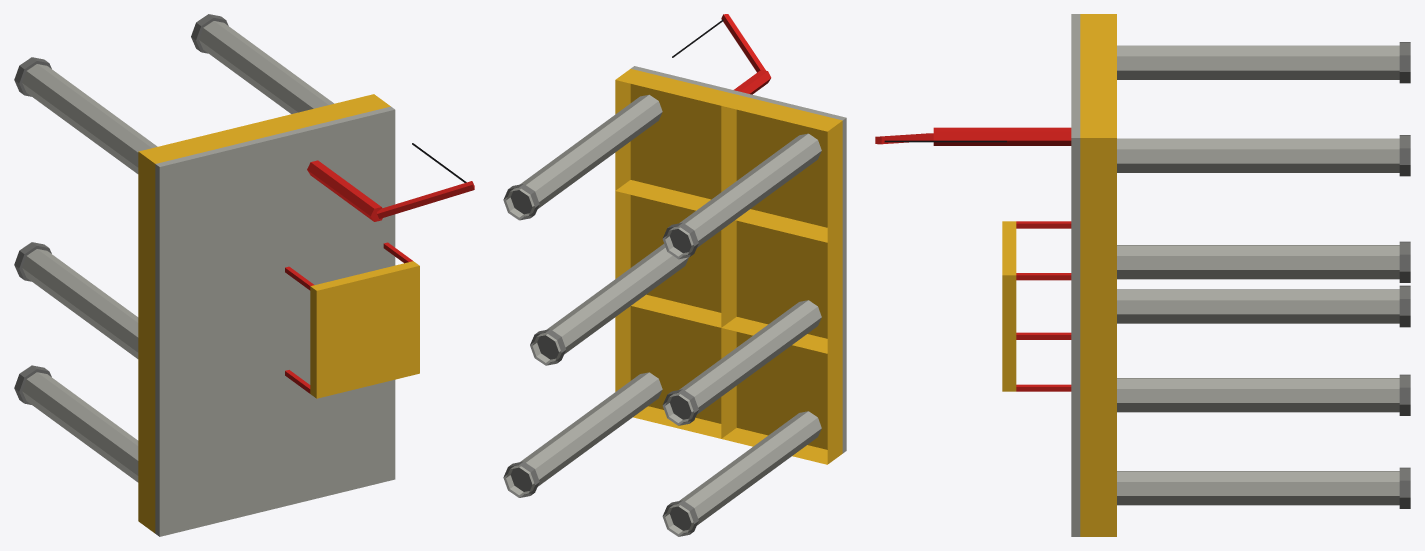
The model's file is construction_2.glb.
3 renders of one model, left to right at view 1: azimuth 30°, elevation 25°; view 2: azimuth 150°, elevation 25°; view 3: azimuth 270°, elevation 25°, orthographic. The views are drawn at different scales.
Parts seen in each view (by area): view 1: t02_g25.002, t12_g28.002, t00_g24.002, t01_g24.002, t11_g27.002, t10_g26.002; view 2: t01_g24.002, t12_g28.002, t02_g25.002, t00_g24.002, t10_g26.002, t11_g27.002; view 3: t12_g28.002, t11_g27.002, t10_g26.002, t02_g25.002, t00_g24.002, t01_g24.002.
Boxes of the visible parts, left/top/right/bottom form: t02_g25.002: left=14, top=57, right=277, bottom=290; t12_g28.002: left=191, top=14, right=474, bottom=261; t00_g24.002: left=14, top=365, right=277, bottom=536; t01_g24.002: left=14, top=242, right=277, bottom=413; t11_g27.002: left=277, top=233, right=419, bottom=398; t10_g26.002: left=277, top=377, right=395, bottom=507; t01_g24.002: left=662, top=209, right=846, bottom=425; t12_g28.002: left=503, top=14, right=771, bottom=220; t02_g25.002: left=662, top=92, right=846, bottom=259; t00_g24.002: left=662, top=317, right=846, bottom=536; t10_g26.002: left=503, top=294, right=736, bottom=497; t11_g27.002: left=530, top=180, right=736, bottom=365; t12_g28.002: left=875, top=76, right=1410, bottom=270; t11_g27.002: left=1002, top=221, right=1410, bottom=403; t10_g26.002: left=1071, top=404, right=1410, bottom=536; t02_g25.002: left=1071, top=14, right=1410, bottom=83; t00_g24.002: left=1117, top=374, right=1410, bottom=415; t01_g24.002: left=1117, top=241, right=1410, bottom=282.
Size of the model in its own units: 32 by 48 by 58.35.
